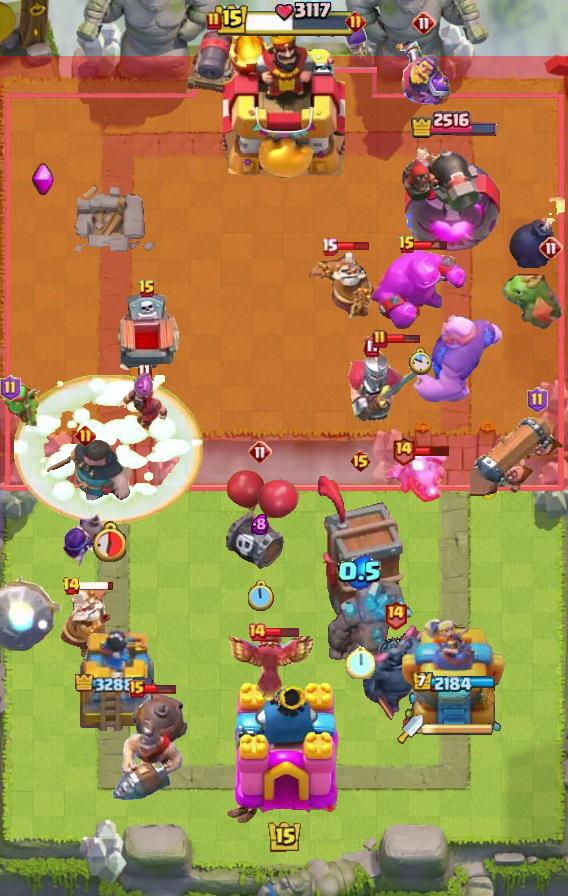baby-dragon: (508, 197, 568, 269)
balloon: (411, 313, 505, 405)
bar: (402, 615, 507, 731)
battle-healer: (470, 415, 568, 497)
bowler: (119, 382, 169, 432)
cannoneer-tower: (324, 578, 414, 680)
clock: (213, 0, 355, 40)
clone: (369, 247, 471, 331)
dart-goblin: (315, 474, 405, 630)
electro-spirit: (337, 554, 383, 590), (133, 373, 154, 400), (251, 513, 269, 535)
electro-wizard: (502, 264, 568, 332)
elixir: (91, 522, 126, 563), (345, 645, 375, 679), (246, 580, 274, 613), (408, 348, 432, 377)
elixir-collector: (306, 249, 376, 321), (59, 586, 115, 660)
elixir-golem-mid: (112, 293, 182, 379)
emote: (413, 443, 450, 456), (264, 626, 300, 638), (414, 239, 449, 251), (336, 240, 371, 252), (387, 333, 422, 345), (143, 683, 177, 695), (77, 581, 114, 592)
firecracker-evolution: (395, 38, 454, 105)
giant-snowball: (0, 385, 40, 431)
goblin: (340, 25, 370, 65)
goblin-ball: (62, 512, 108, 570)
golden-knight: (223, 628, 315, 704)
golemite: (358, 621, 432, 723)
graveyard: (383, 447, 451, 503)
king-tower: (223, 27, 345, 181), (222, 680, 346, 826)
king-tower-bar: (423, 722, 495, 736)
phoenix-big: (12, 375, 204, 525)
queen-tower: (64, 621, 164, 731)
royal-giant-evolution: (183, 28, 245, 98)
royal-hog: (38, 436, 132, 504)
royal-recruit-evolution: (221, 468, 299, 574)
selected: (410, 109, 499, 139), (411, 672, 495, 694), (75, 673, 153, 695)
skeleton-king-skill: (31, 163, 55, 197)
text: (392, 434, 417, 465), (383, 599, 408, 630), (412, 11, 436, 35), (539, 236, 563, 260), (248, 440, 272, 464), (349, 449, 372, 473), (527, 387, 548, 413), (0, 375, 20, 401), (75, 425, 96, 447), (346, 12, 367, 33), (247, 622, 267, 642), (63, 576, 82, 596), (398, 235, 416, 255), (138, 279, 156, 299), (321, 237, 339, 256), (206, 11, 222, 31), (372, 329, 388, 349), (129, 680, 145, 698), (137, 363, 151, 382)
tower-bar: (402, 136, 504, 256)
wall-breaker-evolution: (346, 335, 432, 427)
wizard: (108, 691, 188, 801)
x-bow: (0, 573, 62, 653)
